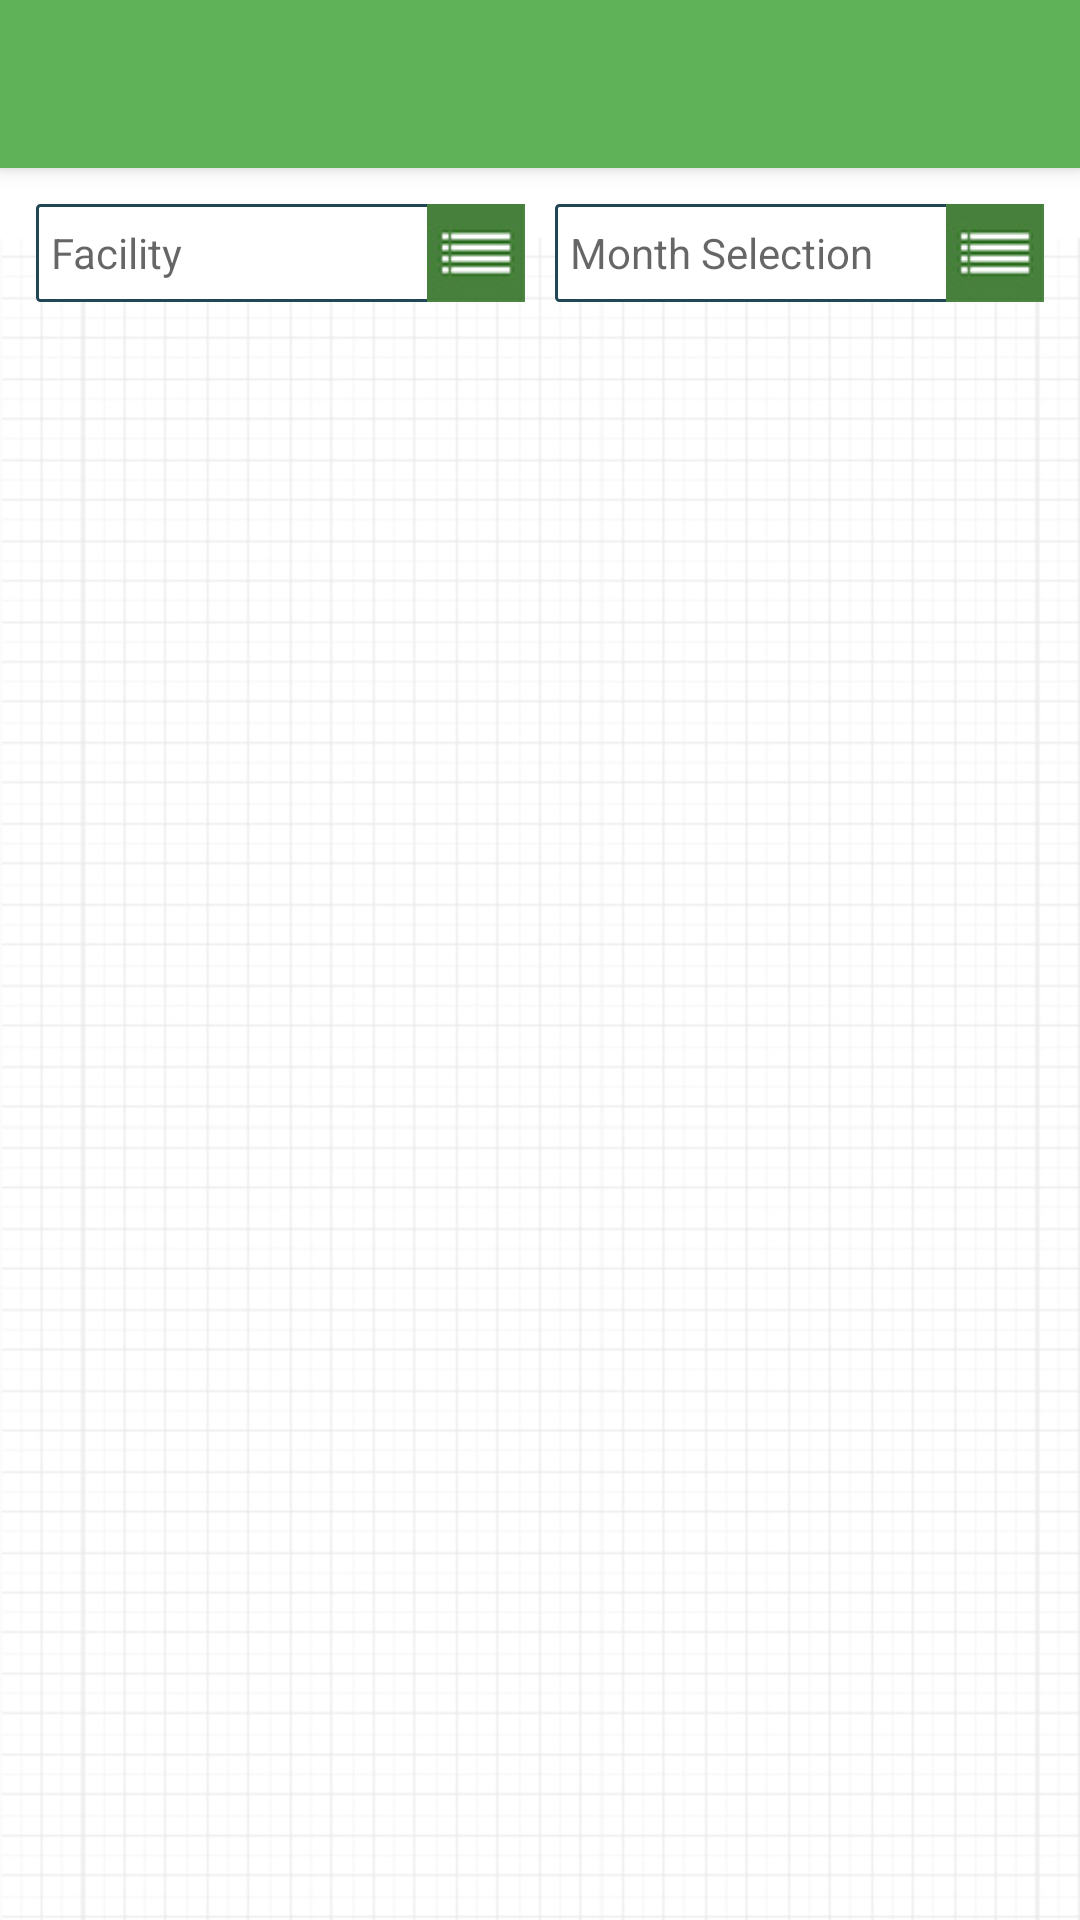

Screen size 1080×1920. Icon name, then its center in pixels as (x=x, y=y):
Choose Selection Icon: (x=476, y=253), (x=995, y=253)
